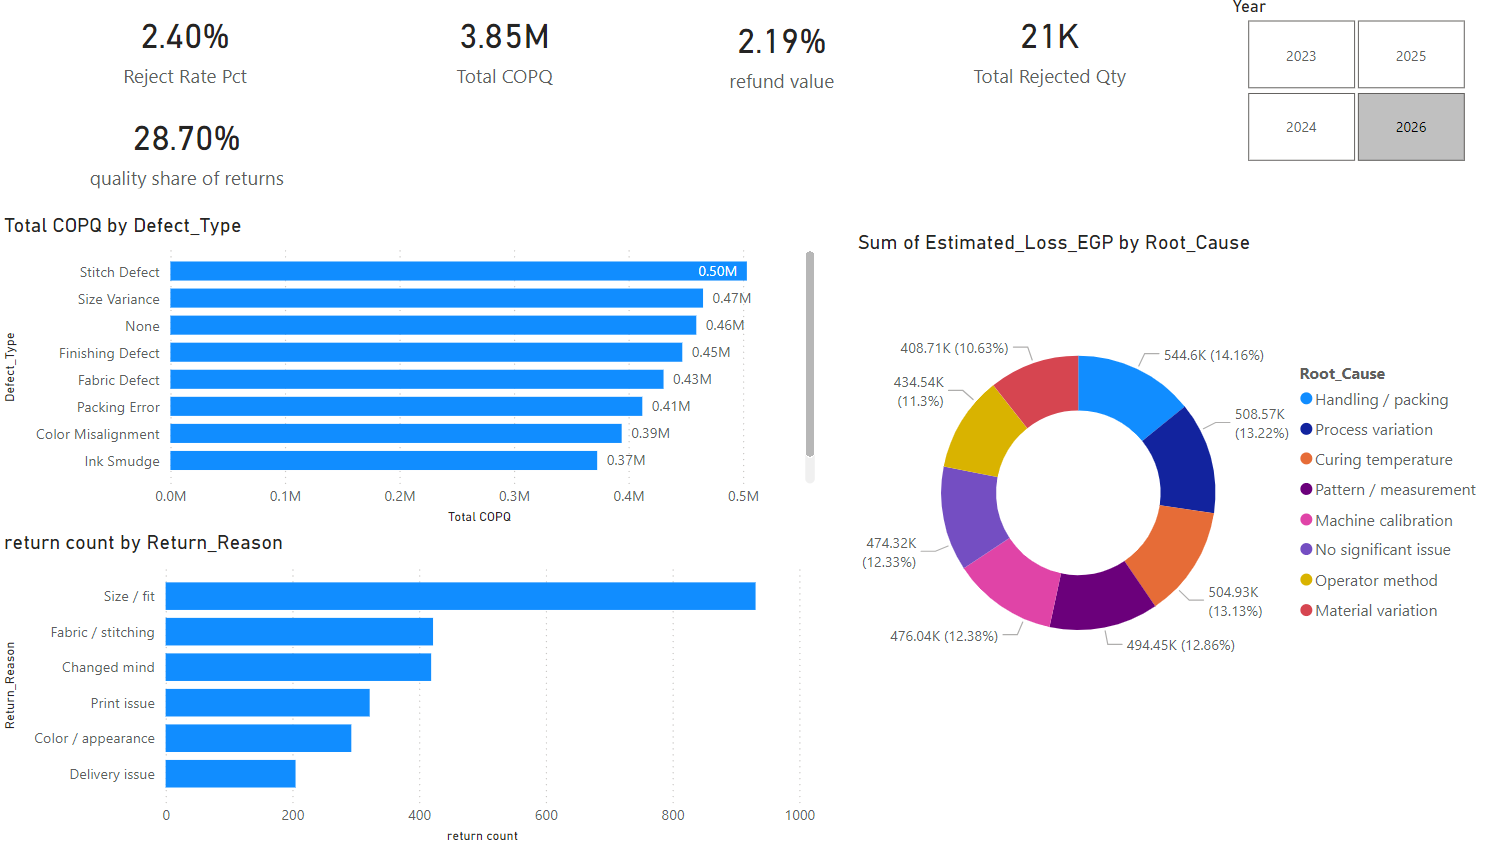

The dashboard page shown, as its layout file describes it:
{"tool":"powerbi","page":{"name":"Quality, Returns & Cost of Poor Quality","canvas":[1280,720],"ordinal":6},"visuals":[{"type":"card","fields":{"Values":["_measurse.Reject Rate Pct"]},"box":[17.8,0,278.6,94.7],"z":0},{"type":"card","fields":{"Values":["_measurse.Total COPQ"]},"box":[317,0,216.8,94.7],"z":1000},{"type":"card","fields":{"Values":["_measurse.Total Rejected Qty"]},"box":[742.4,0,279.9,94.7],"z":2000},{"type":"clusteredBarChart","fields":{"Category":["quality.Defect_Type"],"Y":["_measurse.Total COPQ"]},"box":[0,186.6,690.2,266.2],"z":3000},{"type":"donutChart","fields":{"Category":["quality.Root_Cause"],"Y":["Sum(quality.Estimated_Loss_EGP)"]},"box":[716.3,201.2,538.4,422.1],"z":4000},{"type":"slicer","fields":{"Values":["Dim_Date.Year"]},"box":[1022,0,232,150],"z":5000},{"type":"card","fields":{"Values":["_measurse.refund value"]},"box":[572.2,0,170.2,102.9],"z":5001},{"type":"clusteredBarChart","fields":{"Category":["sales transactions.Return_Reason"],"Y":["_measurse.return count"]},"box":[0,452.8,690.2,267.6],"z":5002},{"type":"card","fields":{"Values":["_measurse.quality share of returns"]},"box":[0,94.7,317,76.8],"z":5003}]}

Visuals, with their boxes in screenshot pixels (x1, y1, x2, y2), scaled from the page's 1280x720 canvas onto the 1500x847 screenshot:
card - _measurse.Reject Rate Pct: (left=21, top=0, right=347, bottom=111)
card - _measurse.Total COPQ: (left=371, top=0, right=626, bottom=111)
card - _measurse.Total Rejected Qty: (left=870, top=0, right=1198, bottom=111)
clusteredBarChart - quality.Defect_Type x _measurse.Total COPQ: (left=0, top=220, right=809, bottom=533)
donutChart - quality.Root_Cause x Sum(quality.Estimated_Loss_EGP): (left=839, top=237, right=1470, bottom=733)
slicer - Dim_Date.Year: (left=1198, top=0, right=1470, bottom=176)
card - _measurse.refund value: (left=671, top=0, right=870, bottom=121)
clusteredBarChart - sales transactions.Return_Reason x _measurse.return count: (left=0, top=533, right=809, bottom=846)
card - _measurse.quality share of returns: (left=0, top=111, right=371, bottom=202)
